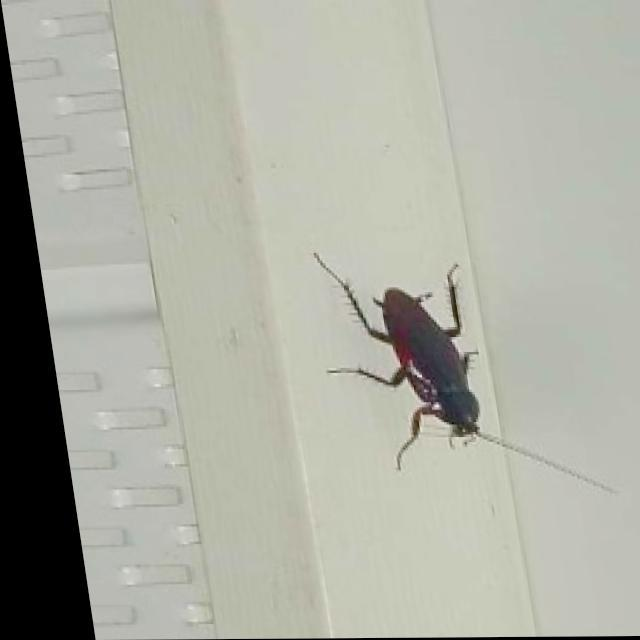cockroach: (337, 250, 521, 471)
